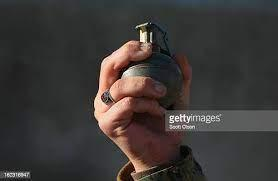Grenade: (118, 22, 184, 110)
